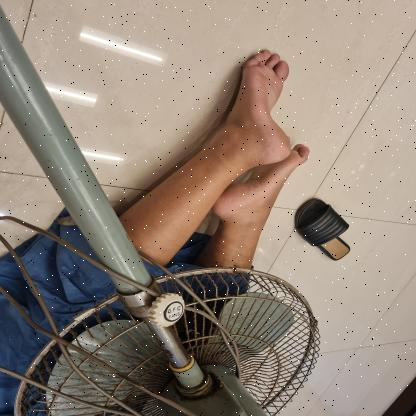leg: (116, 43, 303, 266), (209, 131, 318, 266)
